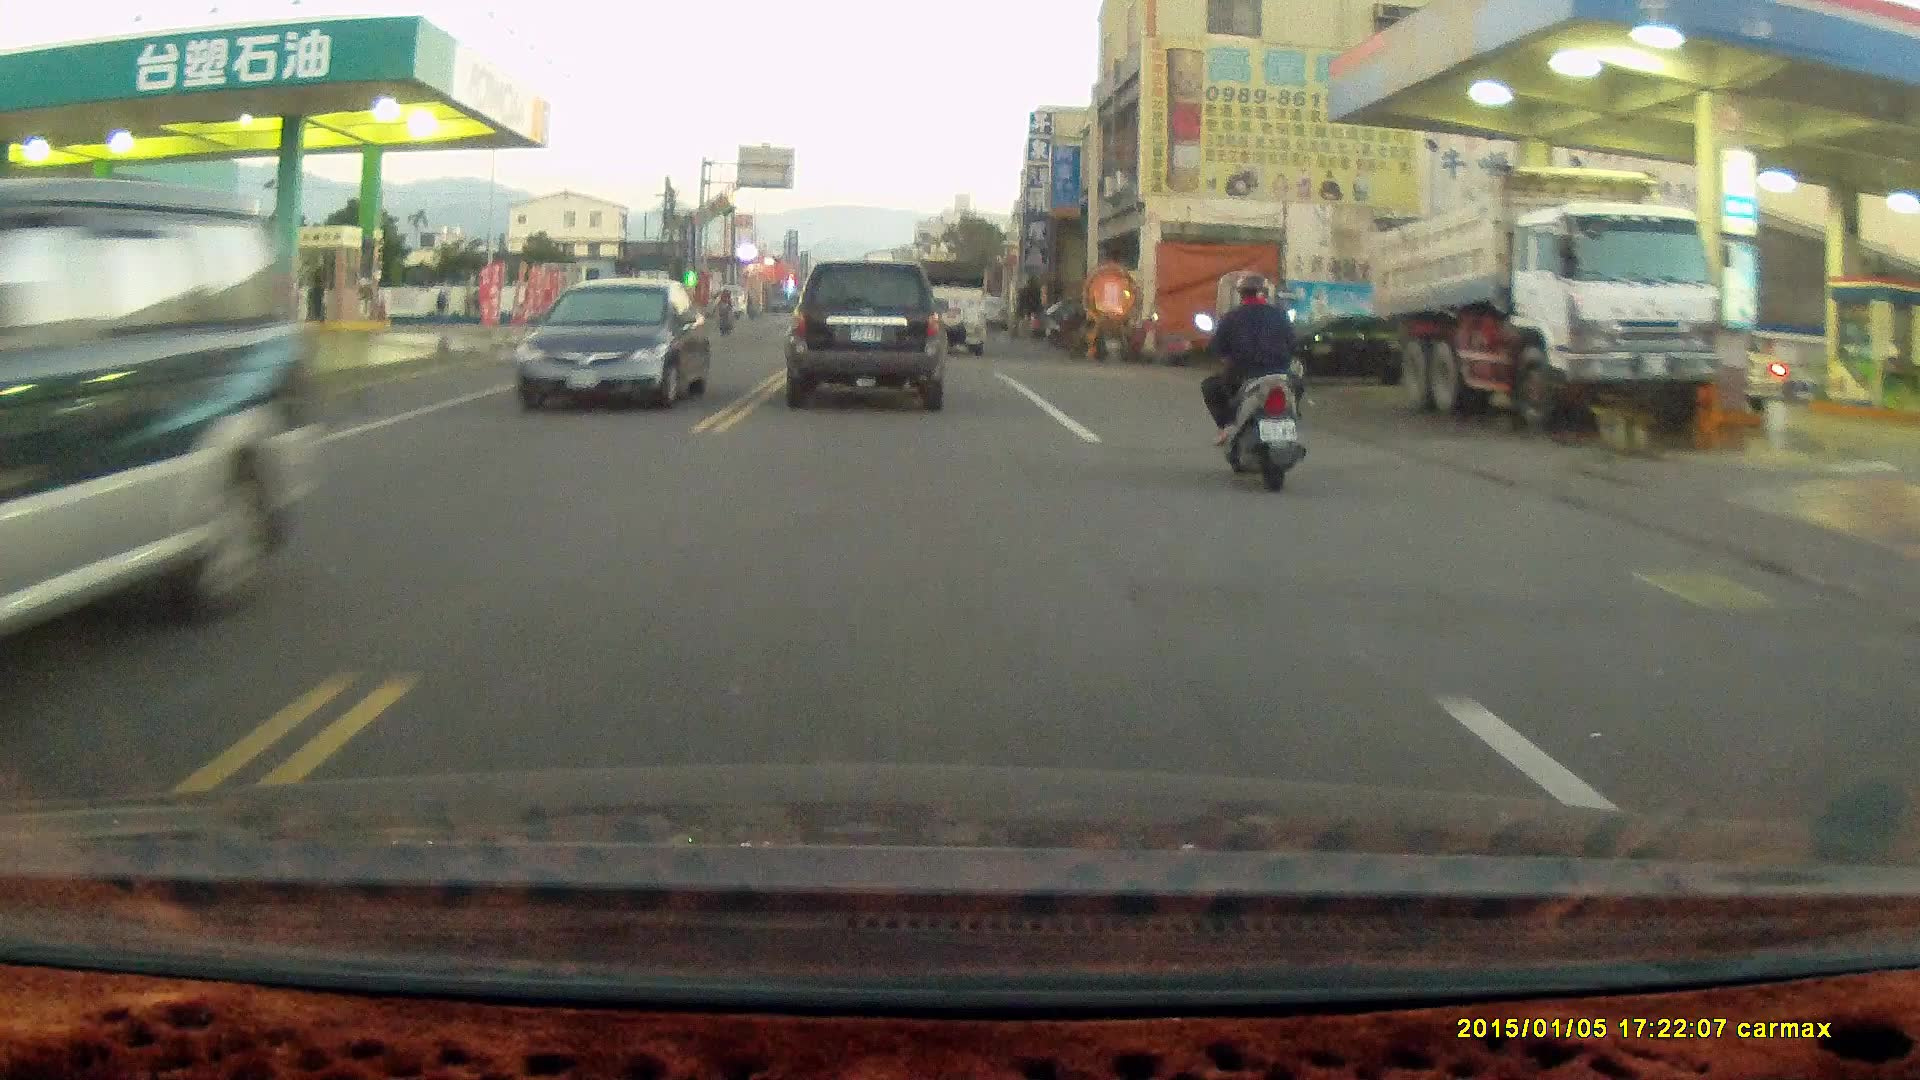rider: (1191, 270, 1307, 494), (710, 286, 734, 338)
vehicle: (1, 173, 325, 677), (1370, 161, 1716, 428), (519, 276, 712, 413), (785, 260, 952, 408), (904, 258, 991, 359)
